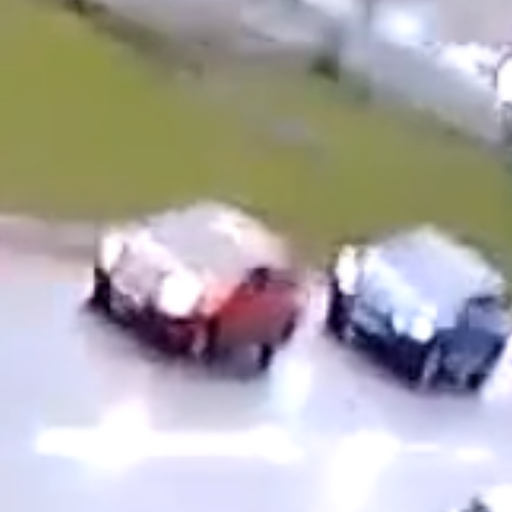Car: (89, 194, 299, 367), (330, 216, 508, 389)
